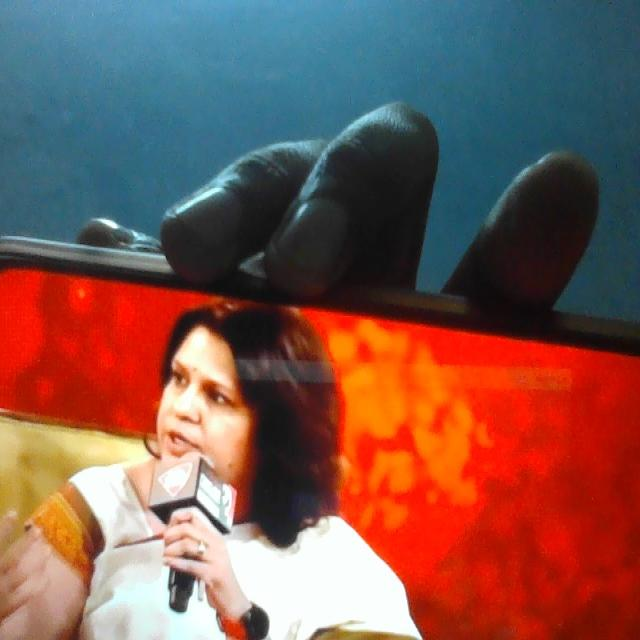fake: (152, 288, 268, 507)
